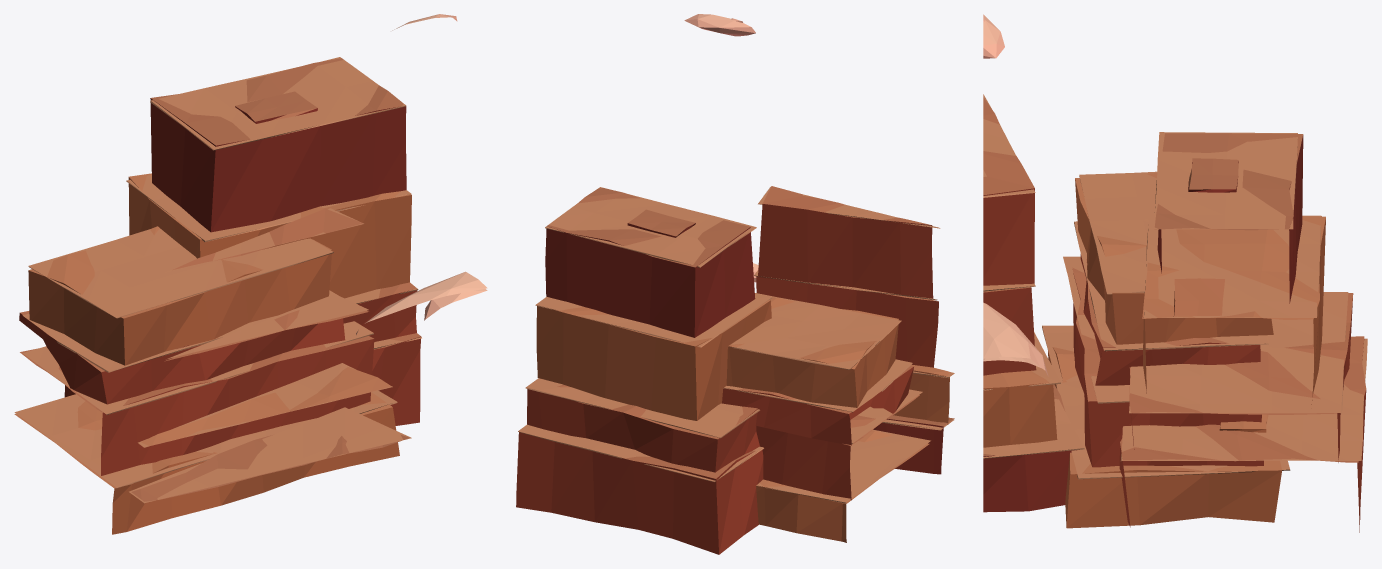
The picture shows the model from 3 angles, left to right: view 1: azimuth 30°, elevation 25°; view 2: azimuth 150°, elevation 25°; view 3: azimuth 270°, elevation 25°; orthographic projection. The views are drawn at different scales.
Parts seen in each view (by area): view 1: scene.2.0 (×2); view 2: scene.2.0 (×2); view 3: scene.2.0 (×2).
Part boxes in pixels (x1,y1,x2,y2): scene.2.0 (×2): (14,14,487,534); scene.2.0 (×2): (516,14,954,554); scene.2.0 (×2): (983,14,1367,532).
Size of the model in its own units: 62.5 by 82.02 by 57.72.
